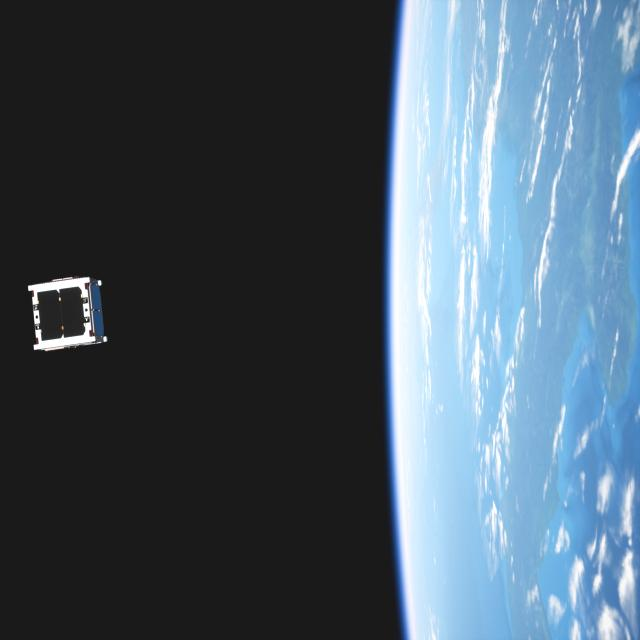satellite: (22, 272, 112, 358)
